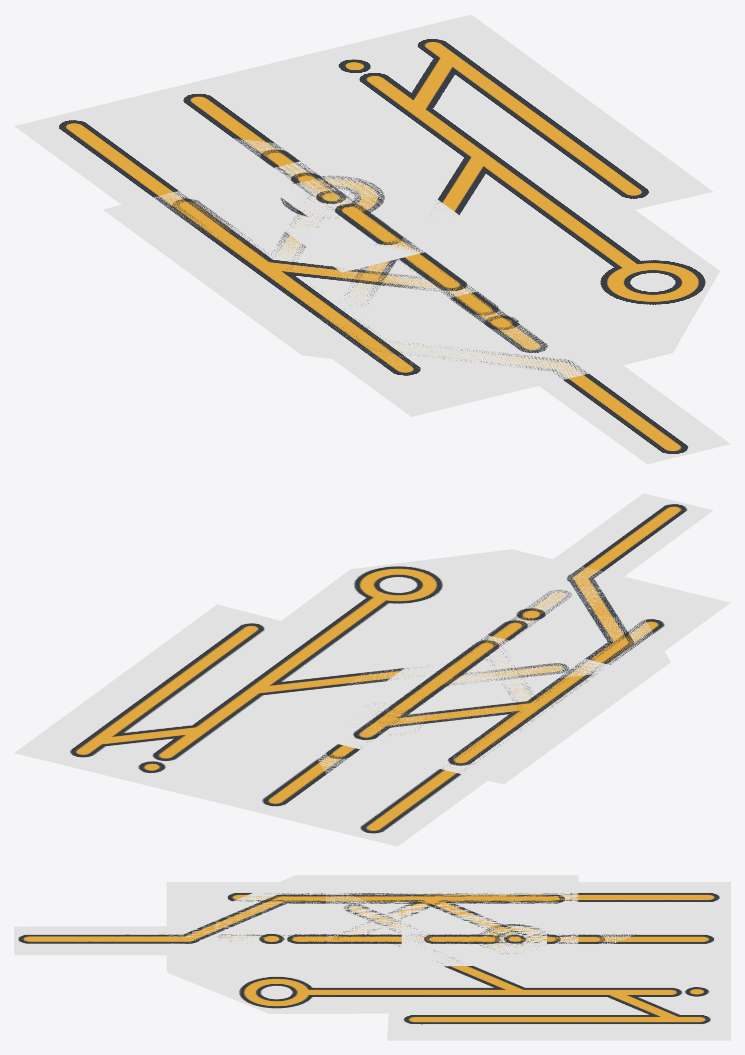
Rendered from Glyphs.fbx.
3 renders of one model, top to bottom at view 1: azimuth 30°, elevation 25°; view 2: azimuth 150°, elevation 25°; view 3: azimuth 270°, elevation 25°, orthographic. The views are drawn at different scales.
Visible parts, largest first — view 1: Glyphs.002, Glyphs, Glyphs.003, Glyphs.001; view 2: Glyphs.002, Glyphs, Glyphs.001, Glyphs.003; view 3: Glyphs.002, Glyphs, Glyphs.003, Glyphs.001.
Boxes of the visible parts, x1,y1,x2,y2 form: Glyphs.002: (14,14,719,416); Glyphs: (103,153,730,464); Glyphs.003: (148,128,488,272); Glyphs.001: (270,173,502,328); Glyphs.002: (14,549,730,846); Glyphs: (310,493,712,784); Glyphs.001: (345,629,628,740); Glyphs.003: (297,655,509,805); Glyphs.002: (166,882,730,1040); Glyphs: (14,875,578,955); Glyphs.003: (401,915,681,966); Glyphs.001: (326,885,547,952).
Size of the model in its own units: 346 by 0.000104 by 635.
